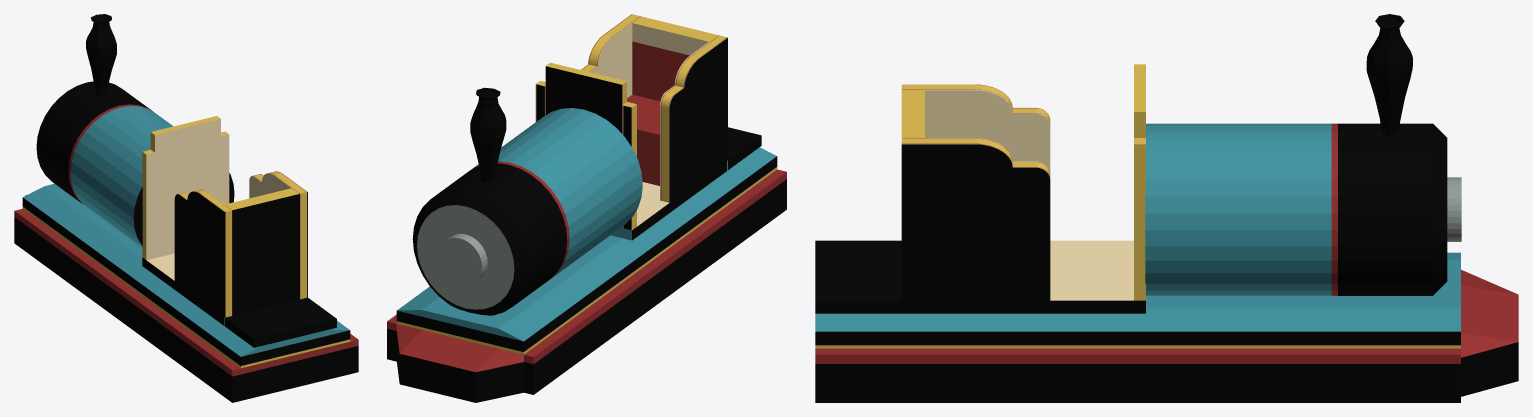
Rendered from Project (Entrance) 2.fbx.
3 views of the same model, side by side, from view 1: azimuth 30°, elevation 25°; view 2: azimuth 150°, elevation 25°; view 3: azimuth 270°, elevation 25° (orthographic). The views are drawn at different scales.
Parts seen in each view (by area): view 1: Cube.001, Cylinder.024, Cube; view 2: Cube.001, Cylinder.024, Cube; view 3: Cube.001, Cylinder.024, Cube.
Part boxes in pixels (box(x1,y1,x2,y2)): Cube.001: box(14, 116, 358, 402); Cylinder.024: box(36, 81, 234, 247); Cube: box(86, 14, 116, 95); Cube.001: box(387, 14, 786, 402); Cylinder.024: box(412, 108, 642, 315); Cube: box(470, 87, 506, 182); Cube.001: box(815, 64, 1518, 402); Cylinder.024: box(1145, 123, 1461, 295); Cube: box(1366, 14, 1412, 135).
Bounding box in the file's own units: 1500 × 2583 × 4890.
